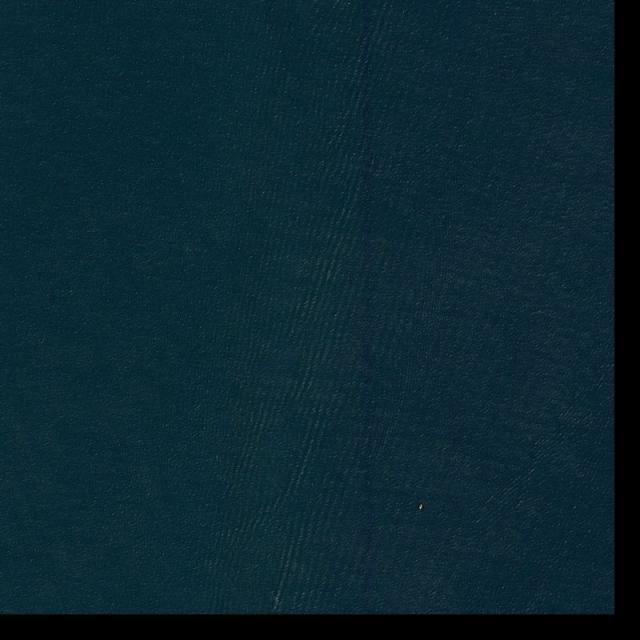ship: (418, 504, 423, 510)
